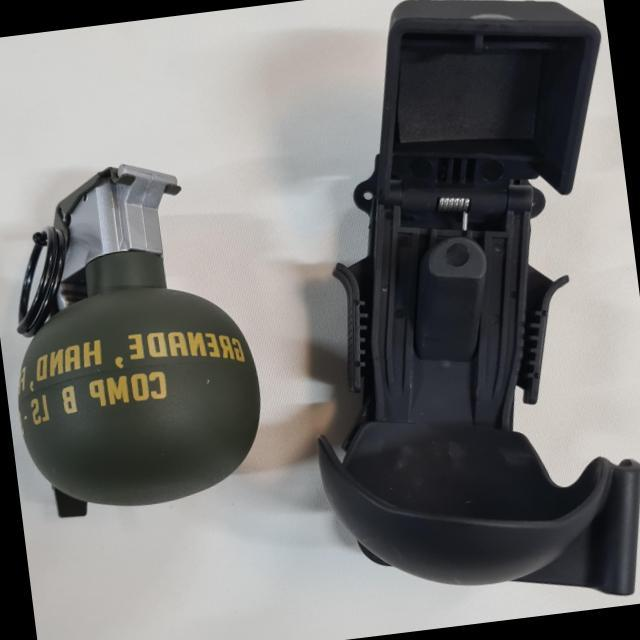grenade: (0, 151, 266, 534)
